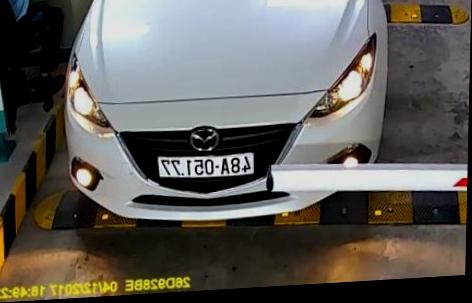License_Plate: (157, 147, 260, 181)
